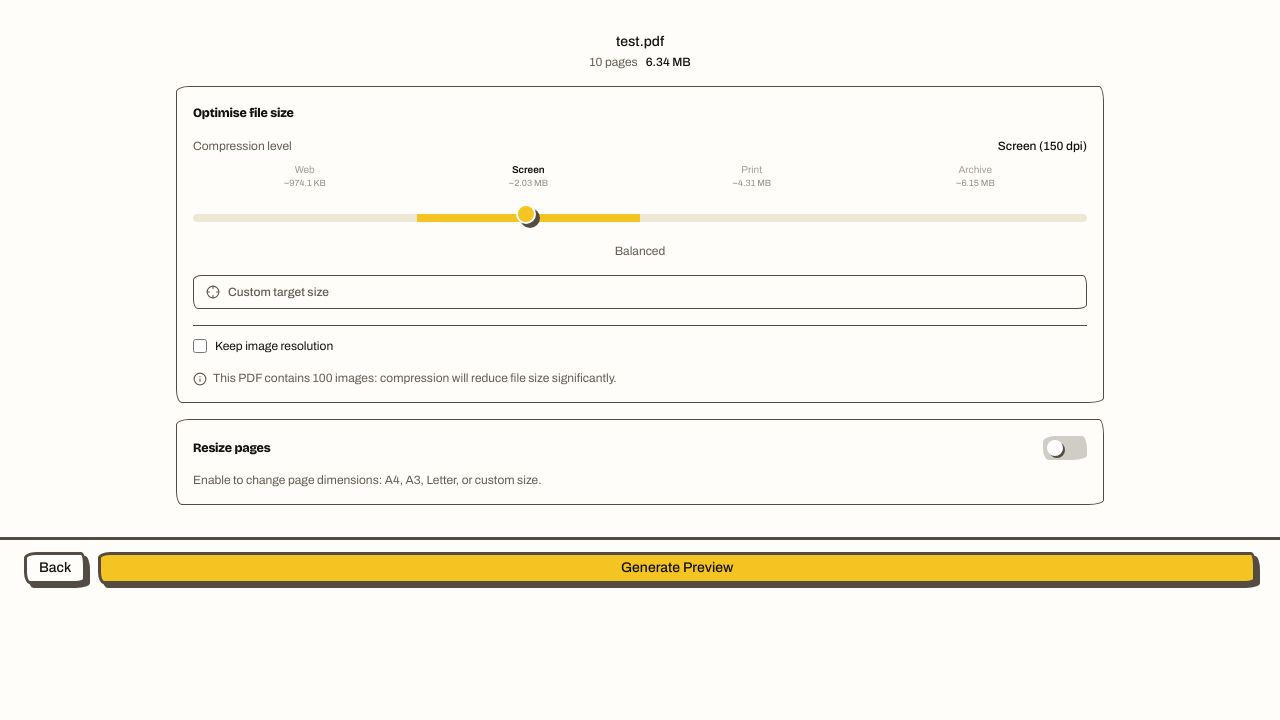
ConfigureStep — custom target unit › [CFG-UNIT-02] keeps KB available when the floor is KB-scale
Click the button "Custom target size" at (278, 292), box [193,274,1087,308]
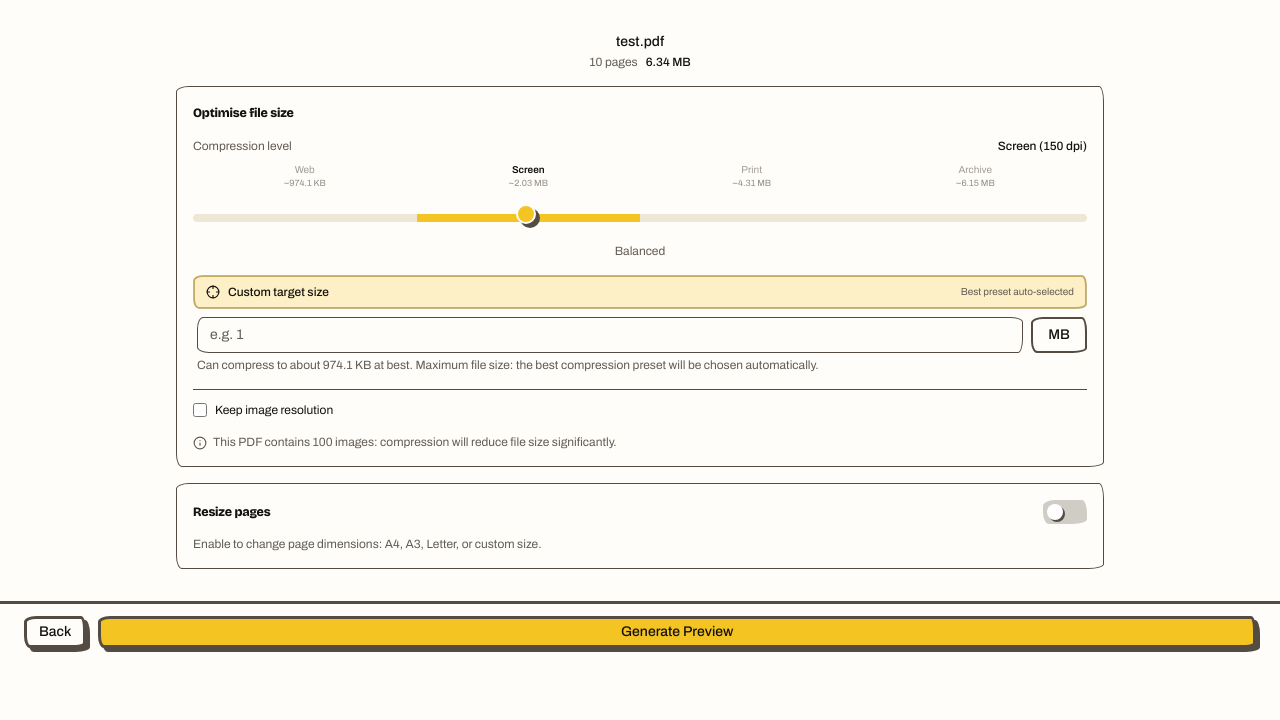
Result: the button "MB" is shown at [1031,316,1087,352]
